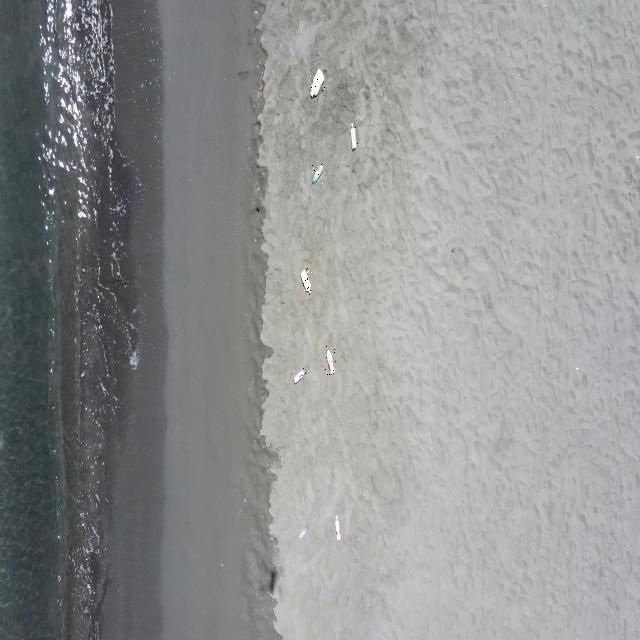Garbage: (310, 68, 324, 96), (300, 267, 310, 292), (311, 163, 323, 183), (324, 347, 333, 373), (293, 367, 304, 383), (350, 123, 355, 150), (299, 524, 307, 537), (335, 515, 339, 540)
